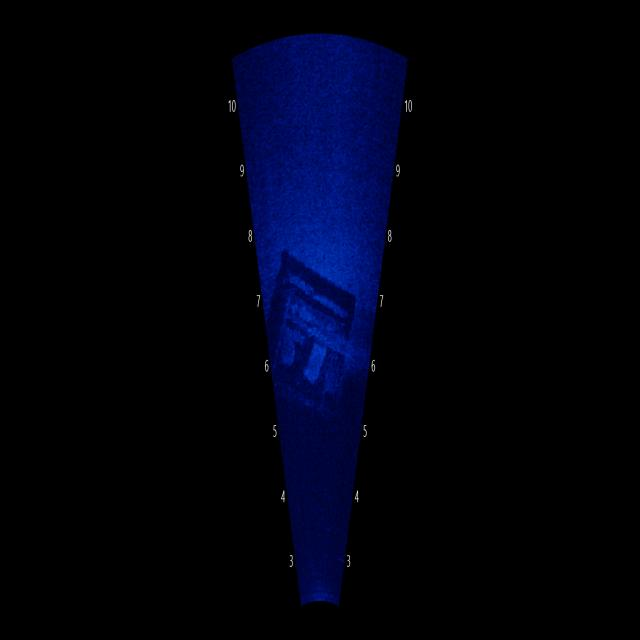square: (265, 244, 363, 446)
